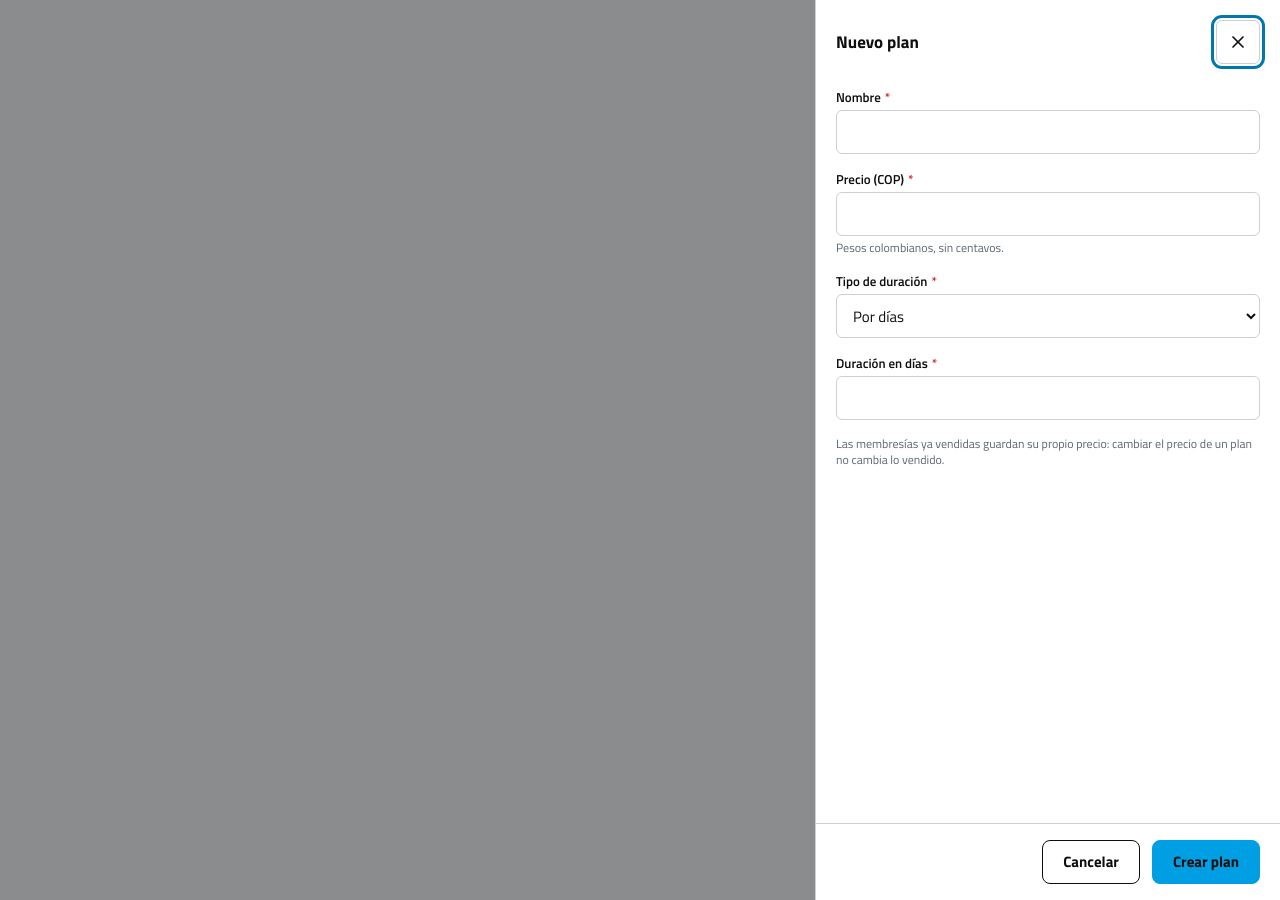
PlanForm · campo condicional de clases › con 'Por número de clases' aparecen 'Número de clases' y 'Días para usarlas'; con 'Por días' se van
Select "Por número de clases" in the dropdown labelled "Tipo de duración*" at [1048, 316], box [836, 294, 1260, 338]
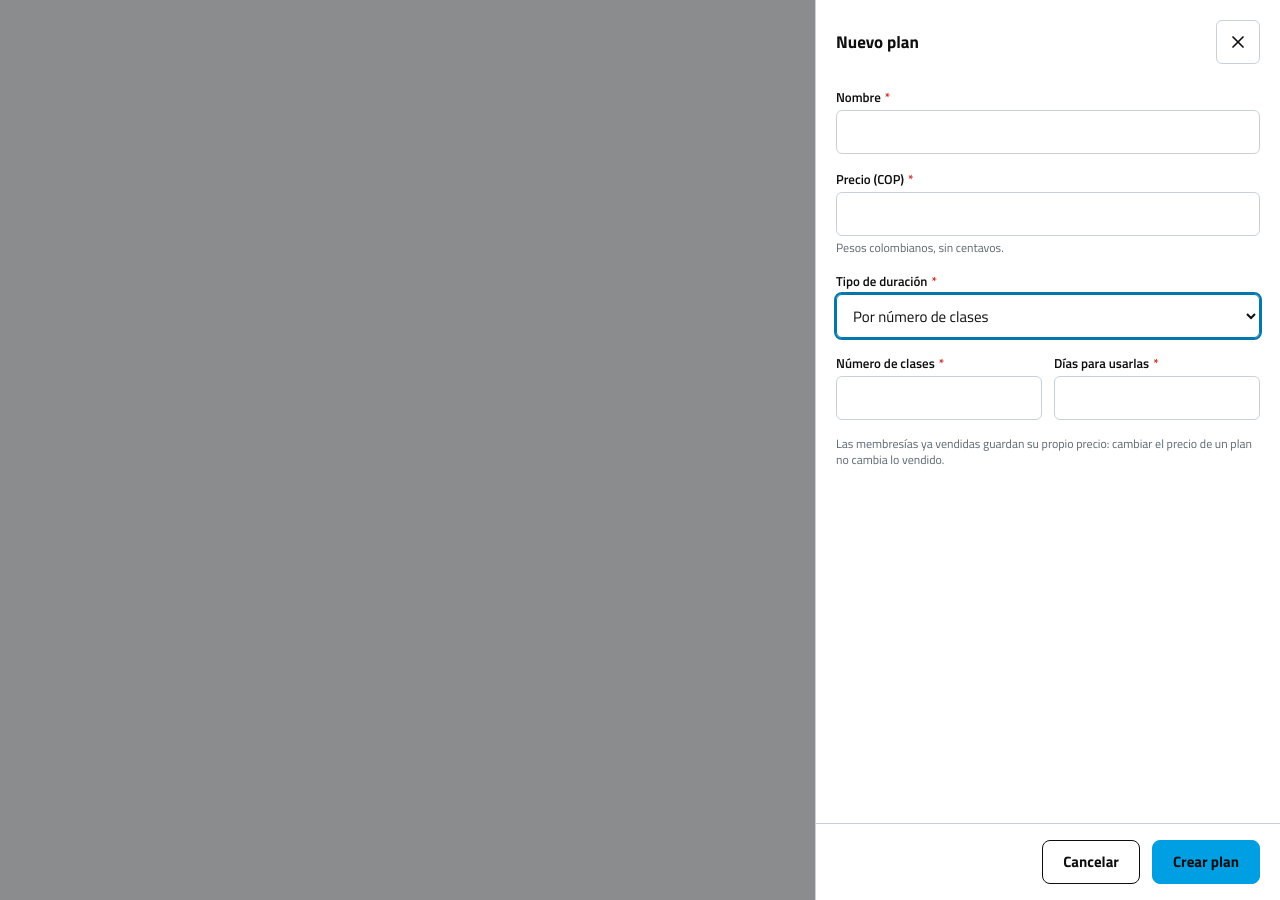
Result: the field labelled "Número de clases*" is shown at [836, 376, 1042, 420]
Result: the field labelled "Días para usarlas*" is shown at [1054, 376, 1260, 420]
Result: the label "Duración en días" is gone
Select "Por días" in the dropdown labelled "Tipo de duración*" at [1048, 316], box [836, 294, 1260, 338]
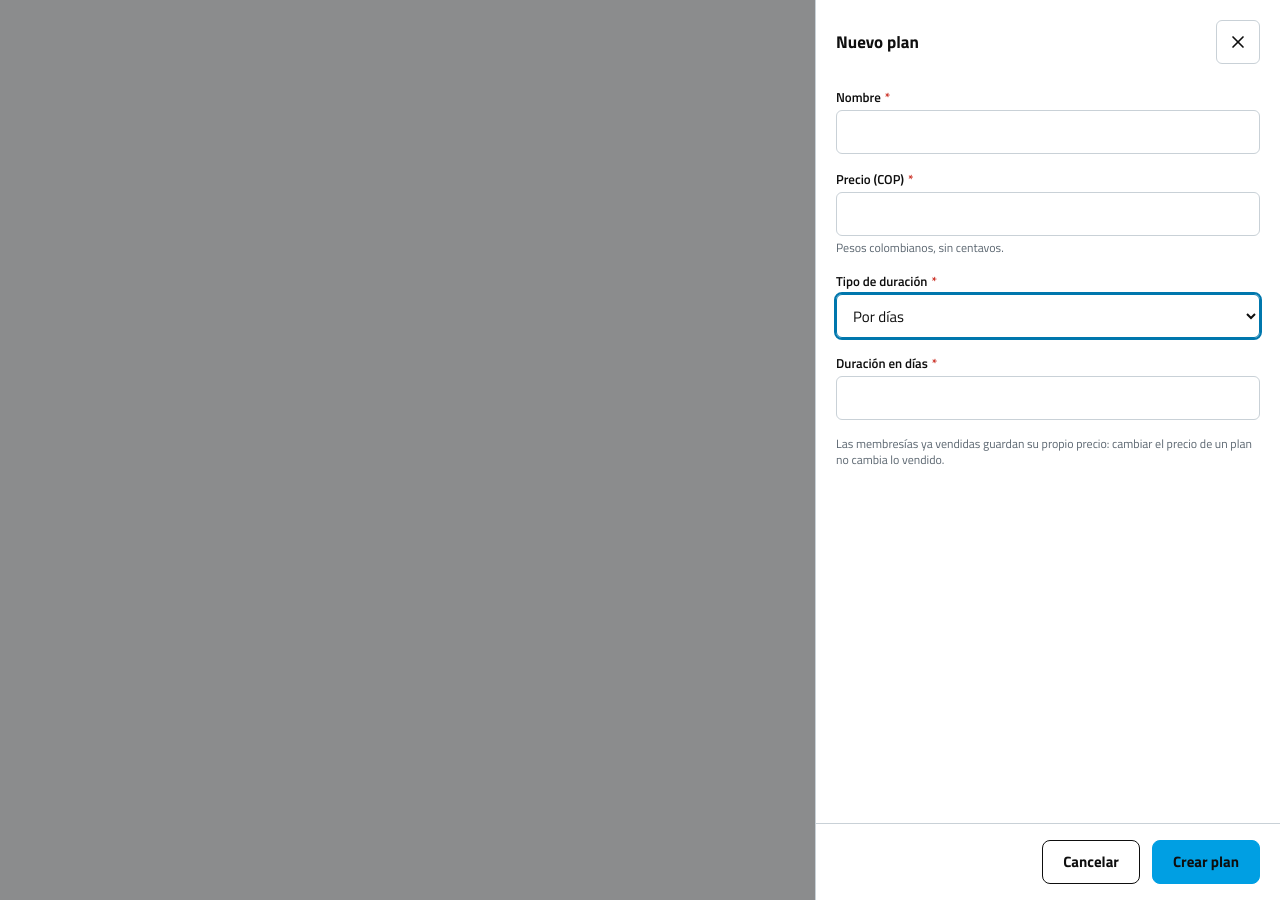
Result: the label "Número de clases" is gone
Result: the field labelled "Duración en días*" is shown at [836, 376, 1260, 420]
